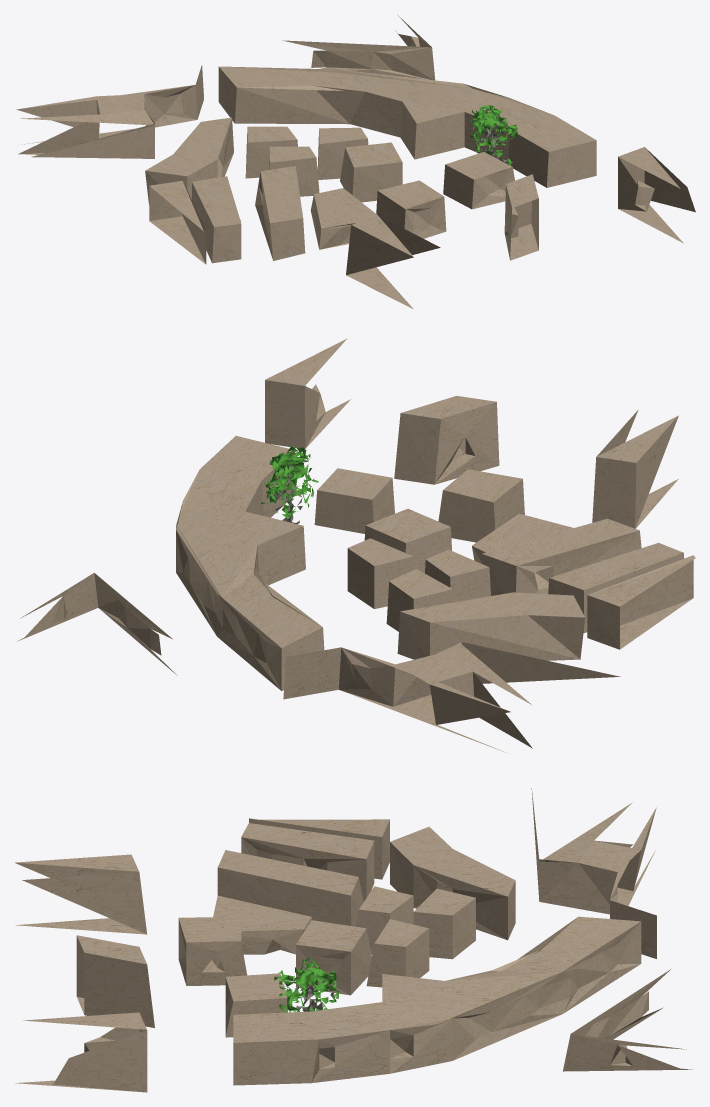
The model's file is tile_-2_0.gltf.
3 renders of one model, top to bottom at view 1: azimuth 30°, elevation 25°; view 2: azimuth 150°, elevation 25°; view 3: azimuth 270°, elevation 25°, orthographic. The views are drawn at different scales.
Visible parts, largest first — view 1: Plane.011@tile_-2_0, Bodhi Tree_Bodhi_front_2_Mat_0.044@tile_-2_0; view 2: Plane.011@tile_-2_0, Bodhi Tree_Bodhi_front_2_Mat_0.044@tile_-2_0; view 3: Plane.011@tile_-2_0, Bodhi Tree_Bodhi_front_2_Mat_0.044@tile_-2_0.
Boxes of the visible parts, <box> form: Plane.011@tile_-2_0: <box>16,15,695,308</box>; Bodhi Tree_Bodhi_front_2_Mat_0.044@tile_-2_0: <box>469,105,517,165</box>; Plane.011@tile_-2_0: <box>17,338,695,752</box>; Bodhi Tree_Bodhi_front_2_Mat_0.044@tile_-2_0: <box>261,445,318,524</box>; Plane.011@tile_-2_0: <box>15,788,692,1092</box>; Bodhi Tree_Bodhi_front_2_Mat_0.044@tile_-2_0: <box>274,958,338,1012</box>.
Size of the model in its own units: 74.14 by 10.32 by 78.39.
Materials: 3 (2 with a texture image).
